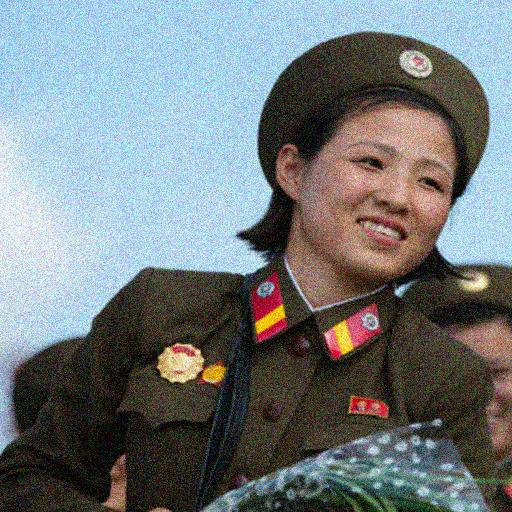north army: (115, 9, 481, 512)
